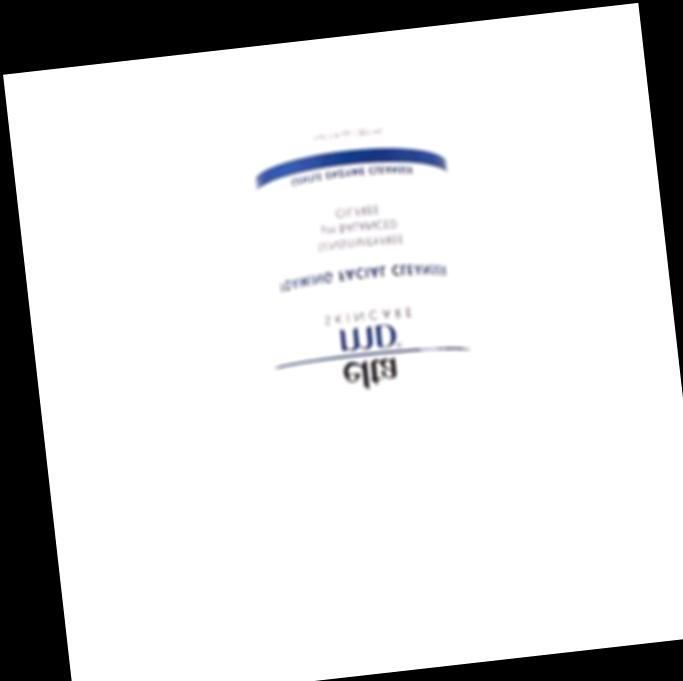cosmetic: (250, 78, 501, 626)
